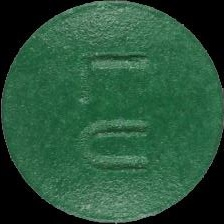54868-1344: (0, 0, 224, 224)
